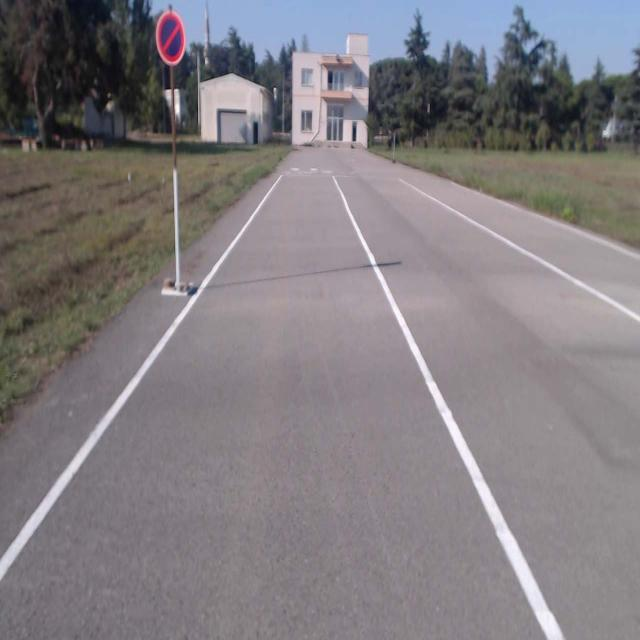parkyasak: (156, 11, 184, 64)
